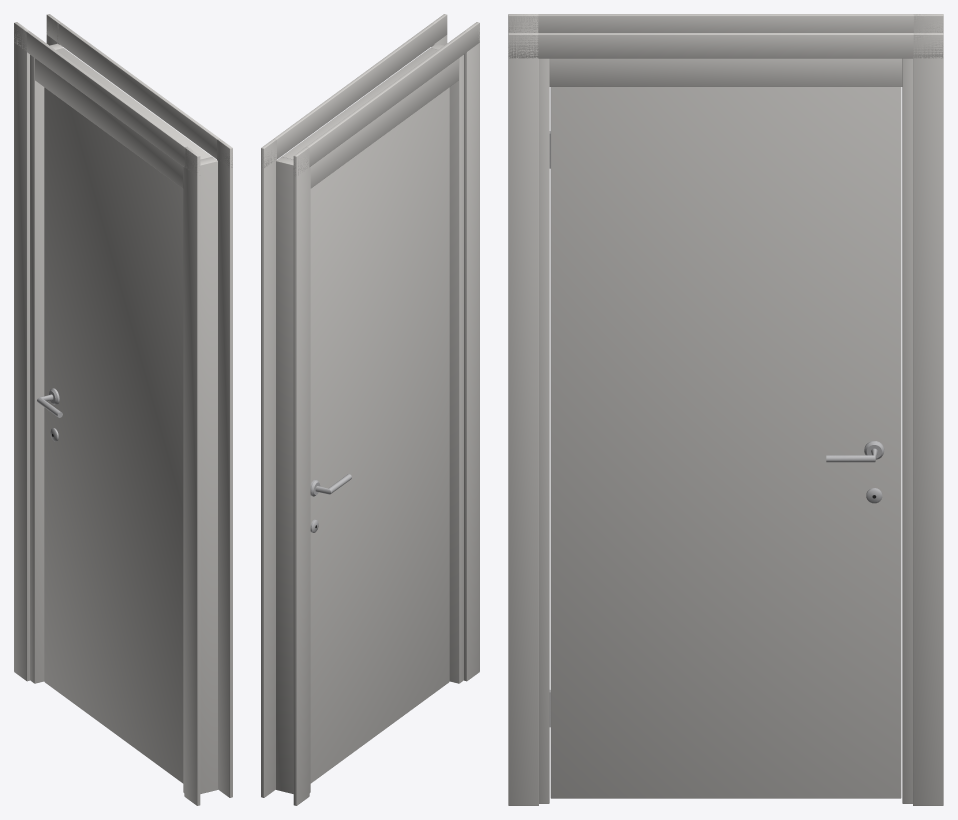
Rendered from recJzsHONUUE96eT1.glb.
The picture shows the model from 3 angles, left to right: view 1: azimuth 30°, elevation 25°; view 2: azimuth 150°, elevation 25°; view 3: azimuth 270°, elevation 25°; orthographic projection. The views are drawn at different scales.
Visible parts, largest first — view 1: porte_chambre_etage__battant, porte_chambre_etage__cadre; view 2: porte_chambre_etage__battant, porte_chambre_etage__cadre; view 3: porte_chambre_etage__battant, porte_chambre_etage__cadre.
Boxes of the visible parts, x1,y1,x2,y2 form: porte_chambre_etage__battant: (37, 87, 183, 783); porte_chambre_etage__cadre: (14, 14, 232, 805); porte_chambre_etage__battant: (310, 87, 449, 783); porte_chambre_etage__cadre: (261, 14, 479, 805); porte_chambre_etage__battant: (549, 87, 901, 798); porte_chambre_etage__cadre: (508, 14, 943, 805).
Size of the model in its own units: 0.1689 by 2.21 by 1.13.
3 materials, 1 textured.
